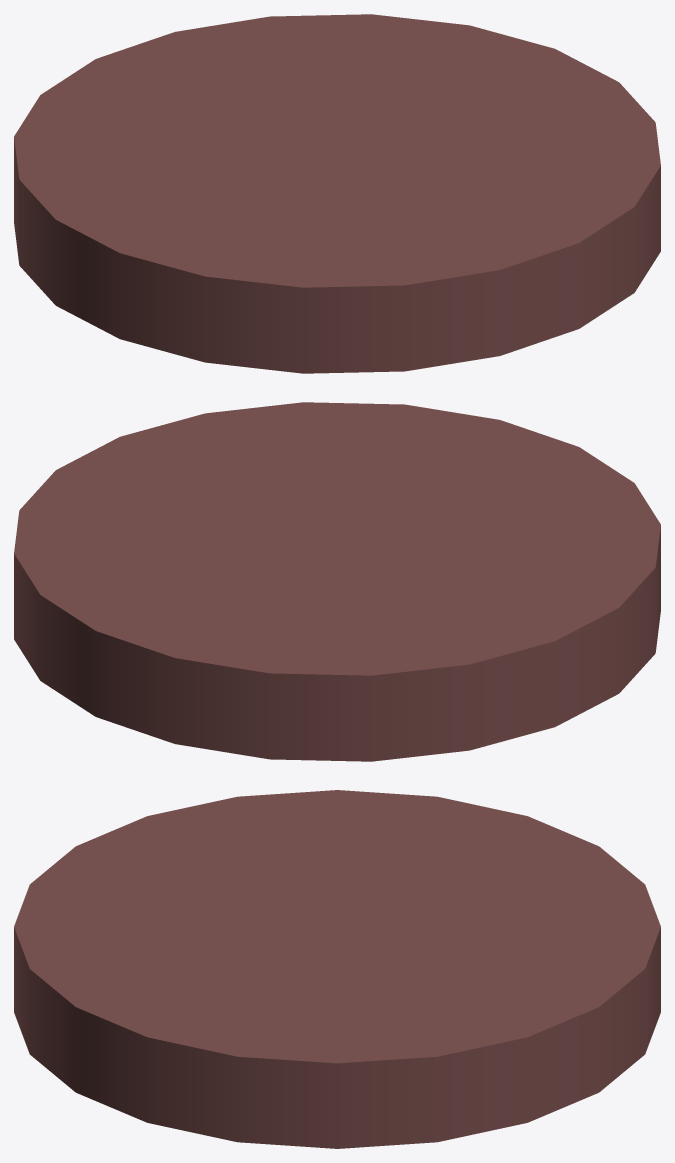
The model's file is Uncooked Burger.fbx.
The picture shows the model from 3 angles, top to bottom: view 1: azimuth 30°, elevation 25°; view 2: azimuth 150°, elevation 25°; view 3: azimuth 270°, elevation 25°; orthographic projection.
Visible parts, largest first — view 1: Uncooked_Burger; view 2: Uncooked_Burger; view 3: Uncooked_Burger.
Boxes of the visible parts, x1,y1,x2,y2 form: Uncooked_Burger: (14,14,660,373); Uncooked_Burger: (14,402,660,761); Uncooked_Burger: (14,790,660,1148).
Bounding box in the file's own units: 37.1 × 5.41 × 37.1.
